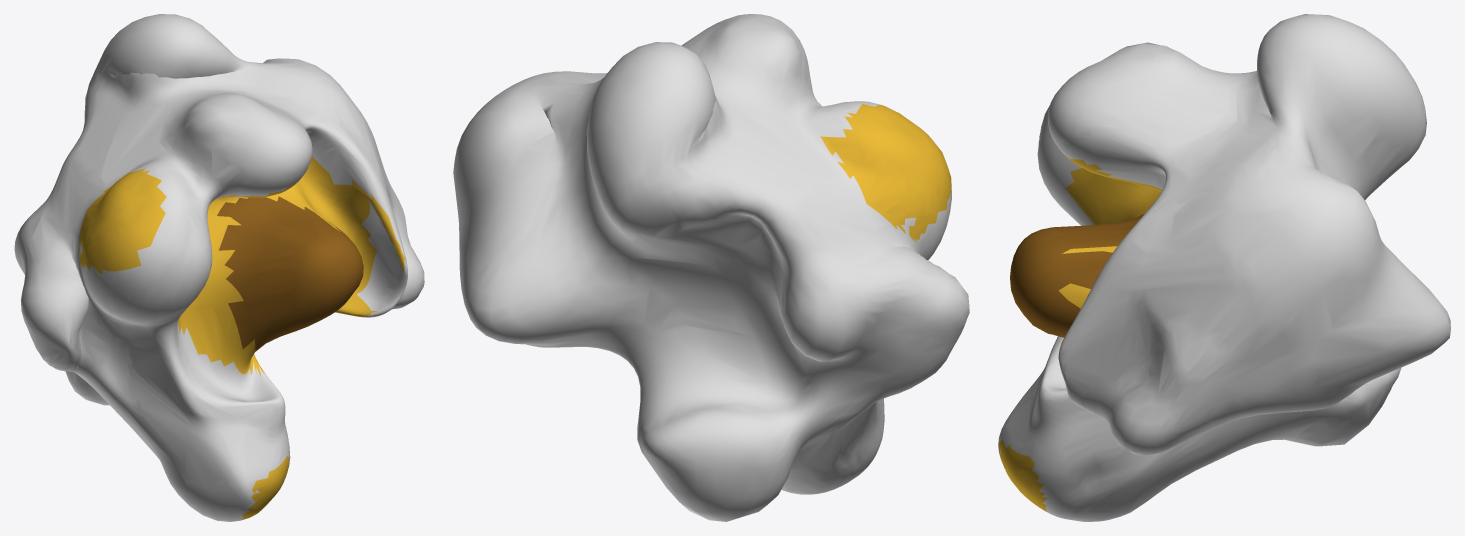
File: popcorn.gltf
The picture shows the model from 3 angles, left to right: view 1: azimuth 30°, elevation 25°; view 2: azimuth 150°, elevation 25°; view 3: azimuth 270°, elevation 25°; orthographic projection. The views are drawn at different scales.
Parts seen in each view (by area): view 1: popcorn; view 2: popcorn; view 3: popcorn.
Boxes of the visible parts, box(x1,y1,x2,y2) form: popcorn: box(14, 14, 424, 521); popcorn: box(453, 14, 969, 521); popcorn: box(998, 14, 1450, 521).
Bounding box in the file's own units: 3 × 3.15 × 2.5.
